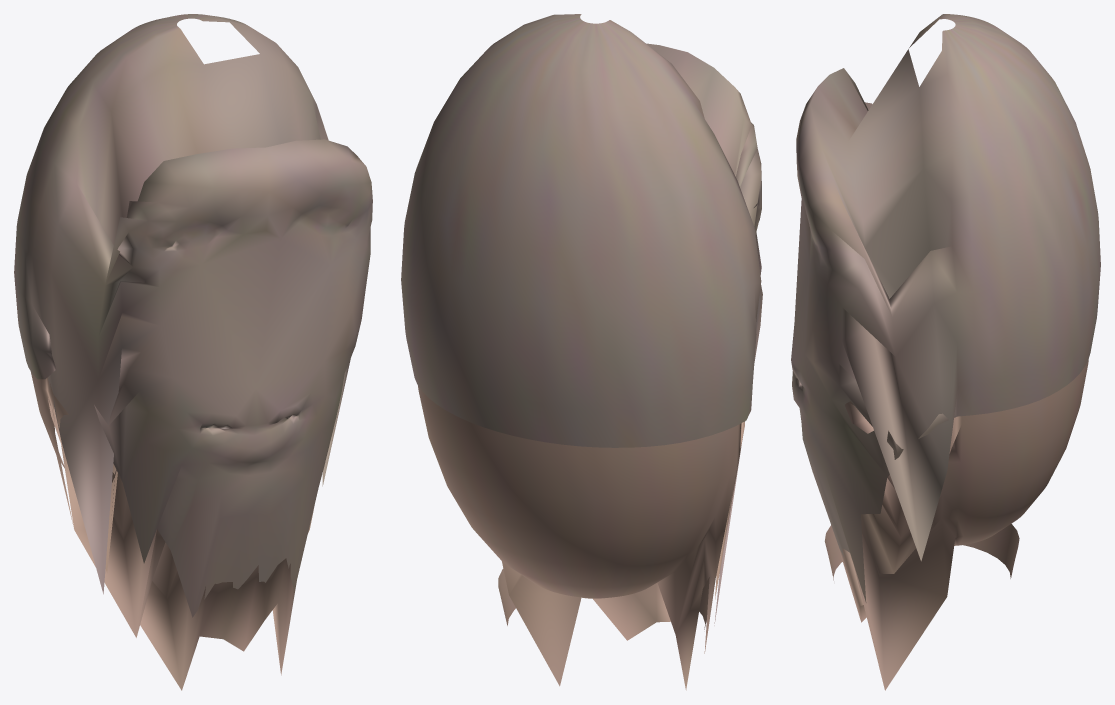
3 views of the same model, side by side, from view 1: azimuth 30°, elevation 25°; view 2: azimuth 150°, elevation 25°; view 3: azimuth 270°, elevation 25° (orthographic). The views are drawn at different scales.
Visible parts, largest first — view 1: world; view 2: world; view 3: world.
Part boxes in pixels (bbox=[...]): world: bbox=[14, 14, 372, 690]; world: bbox=[401, 14, 762, 690]; world: bbox=[791, 14, 1100, 690].
Bounding box in the file's own units: 0.1172 × 0.2349 × 0.1036.
